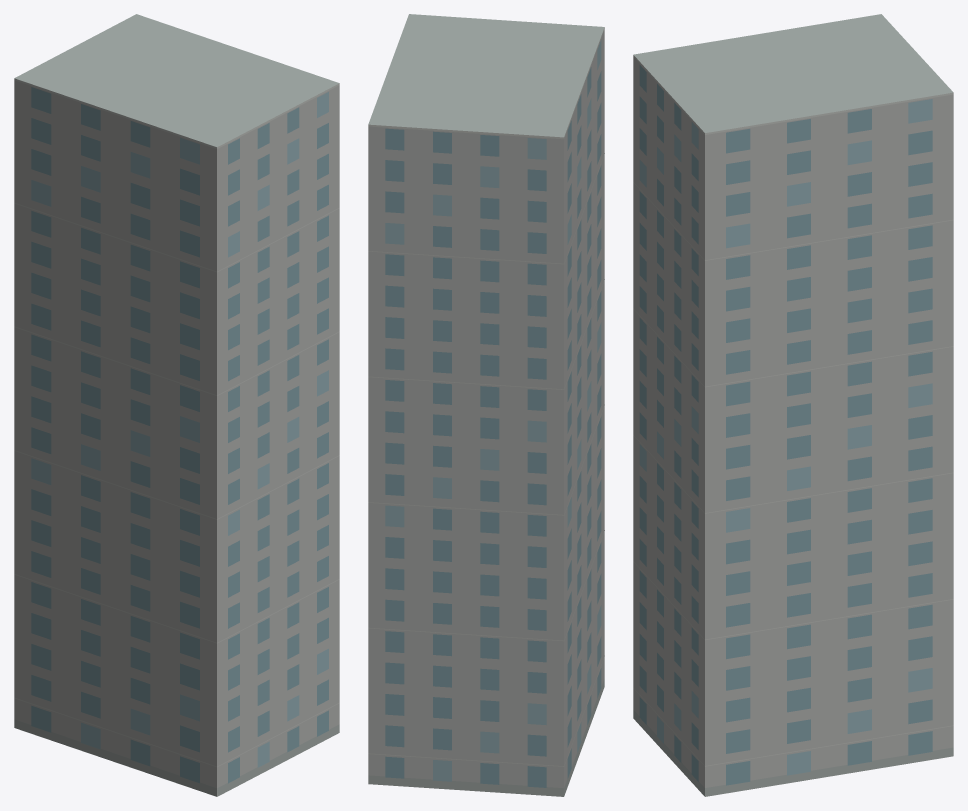
File: residential-92757b3c-3749-4ff8-b7d8-06d13103b1d1.glb
3 renders of one model, left to right at view 1: azimuth 30°, elevation 25°; view 2: azimuth 150°, elevation 25°; view 3: azimuth 270°, elevation 25°, orthographic. The views are drawn at different scales.
Visible parts, largest first — view 1: residential-92757b3c-3749-4ff8-b7d8-06d13103b1d1.tmp; view 2: residential-92757b3c-3749-4ff8-b7d8-06d13103b1d1.tmp; view 3: residential-92757b3c-3749-4ff8-b7d8-06d13103b1d1.tmp.
Part boxes in pixels (box(x1,y1,x2,y2)): residential-92757b3c-3749-4ff8-b7d8-06d13103b1d1.tmp: box(14, 14, 339, 796); residential-92757b3c-3749-4ff8-b7d8-06d13103b1d1.tmp: box(368, 14, 604, 796); residential-92757b3c-3749-4ff8-b7d8-06d13103b1d1.tmp: box(633, 14, 953, 796).
Bounding box in the file's own units: 32.38 × 84 × 36.77.
